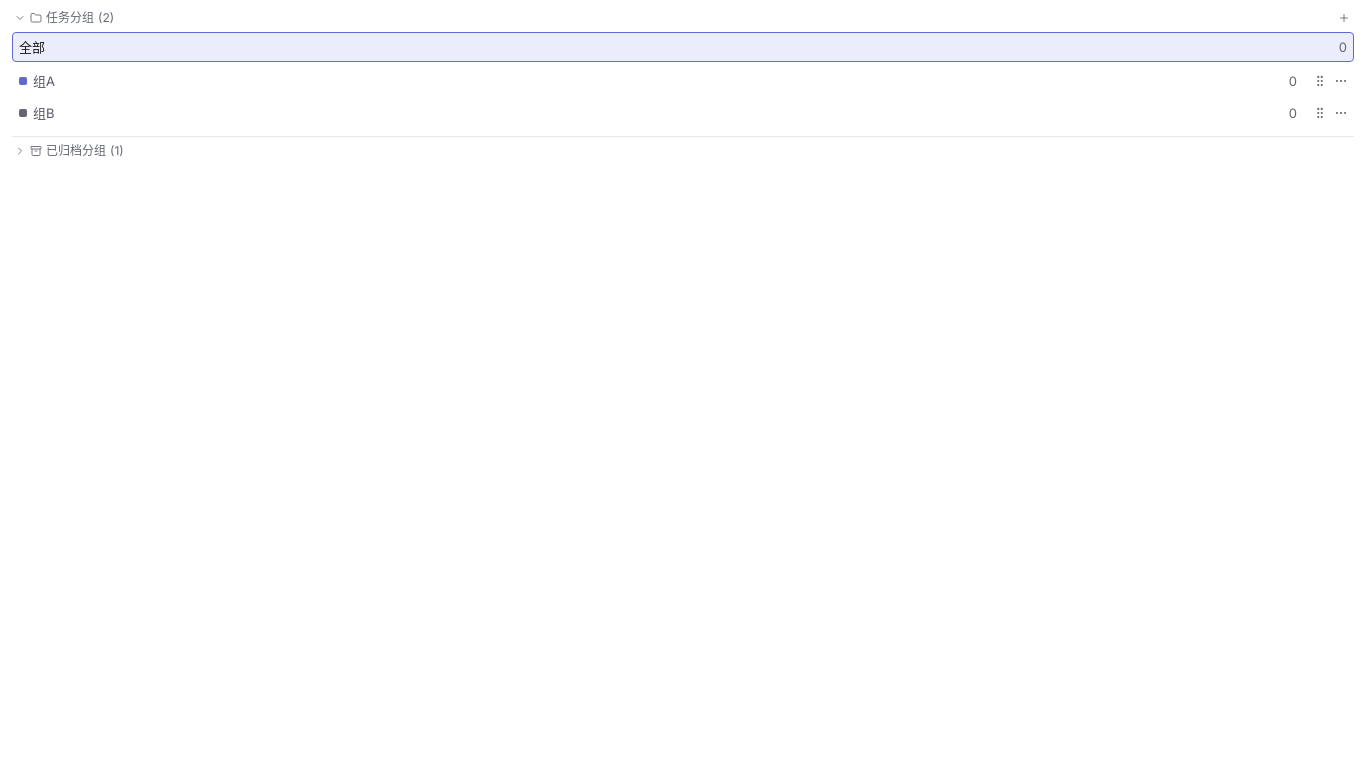
Test: GroupManageList › 菜单点外关闭：遮罩点击关闭菜单（UX 波 2 #4）；再点触发按钮本身仍切换
Check: the list item with aria-label "分组 组A" is shown, box [12,66,1354,96]
Click the heading named "分组菜单 组A" at (1341, 81), box [1334,74,1348,88]
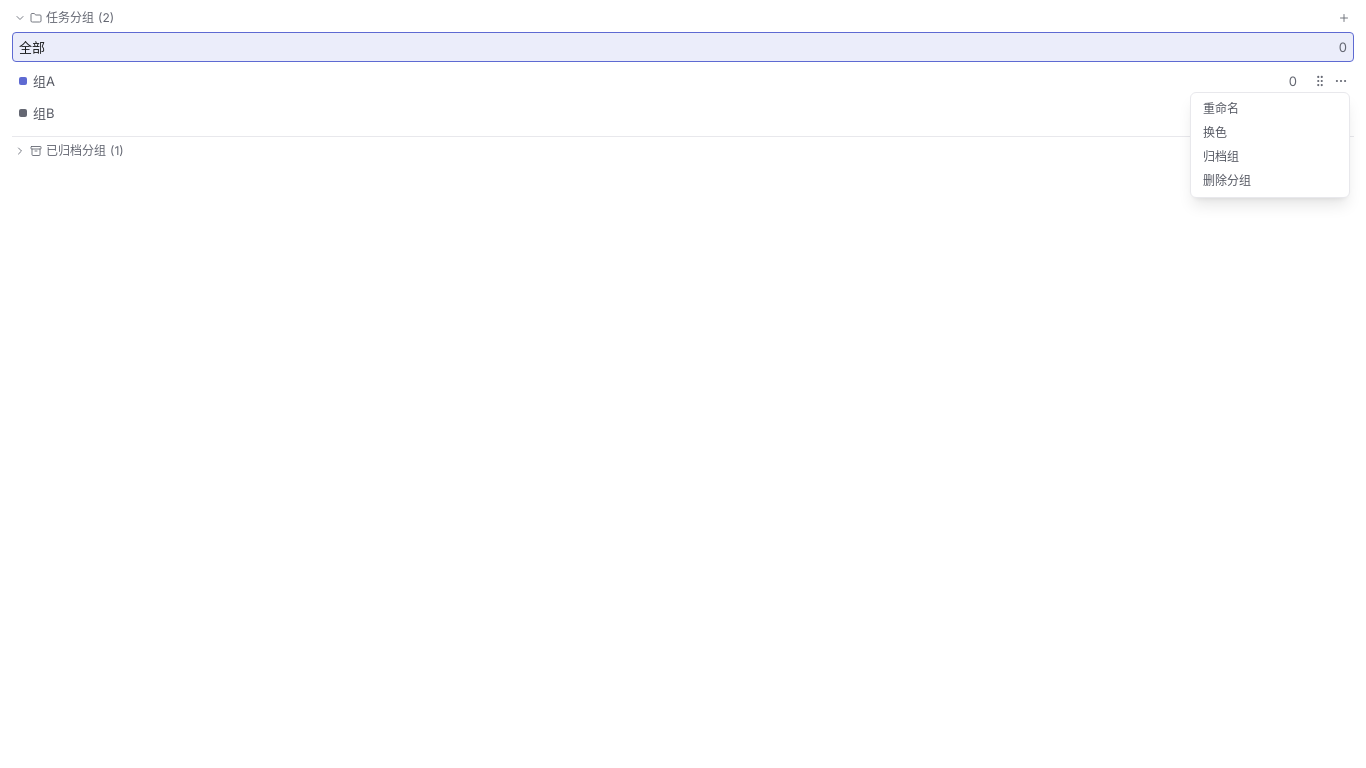
Check: the button "重命名" is shown, box [1191,97,1349,121]
Check: the element with test id "group-menu-overlay" is shown
Click the element with test id "group-menu-overlay" at (683, 384), box [0,0,1365,767]
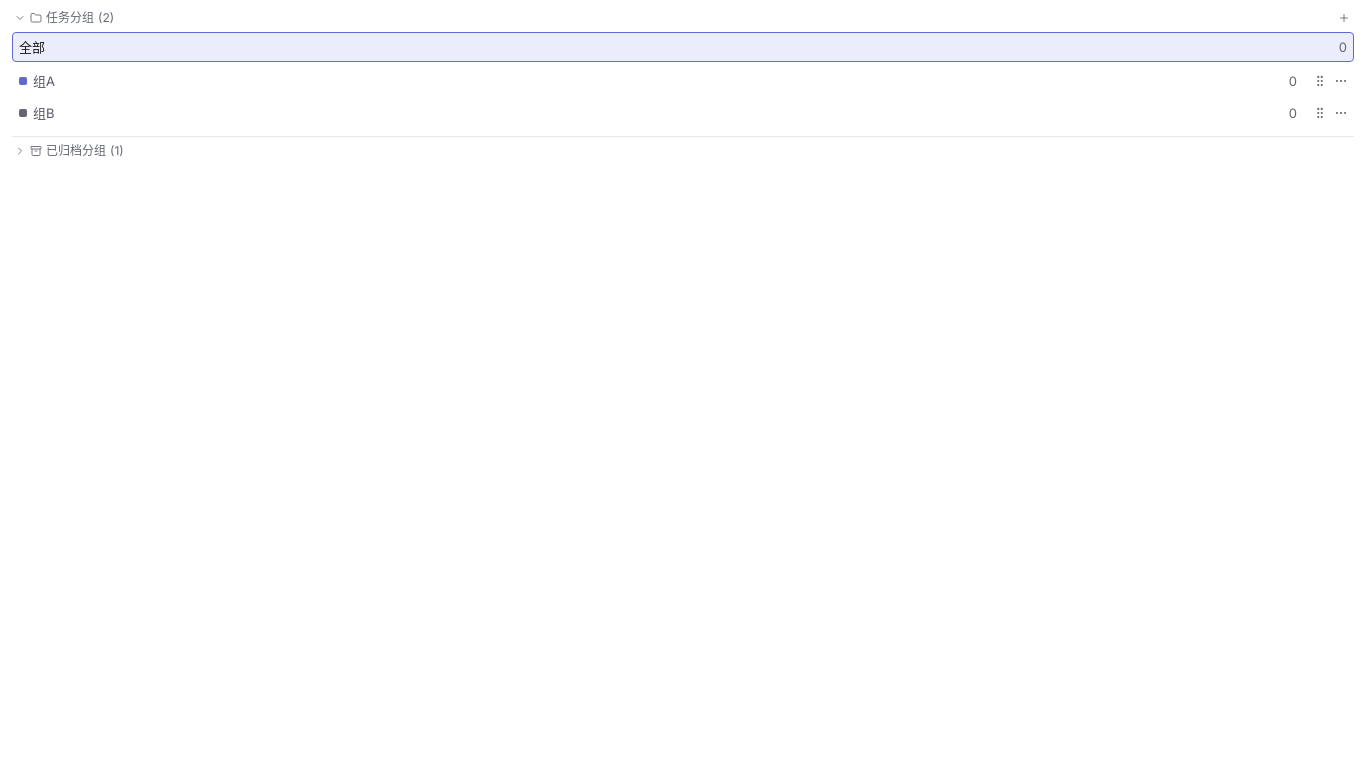
Check: the button "重命名" is gone
Check: the element with test id "group-menu-overlay" is gone
Click the heading named "分组菜单 组A" at (1341, 81), box [1334,74,1348,88]
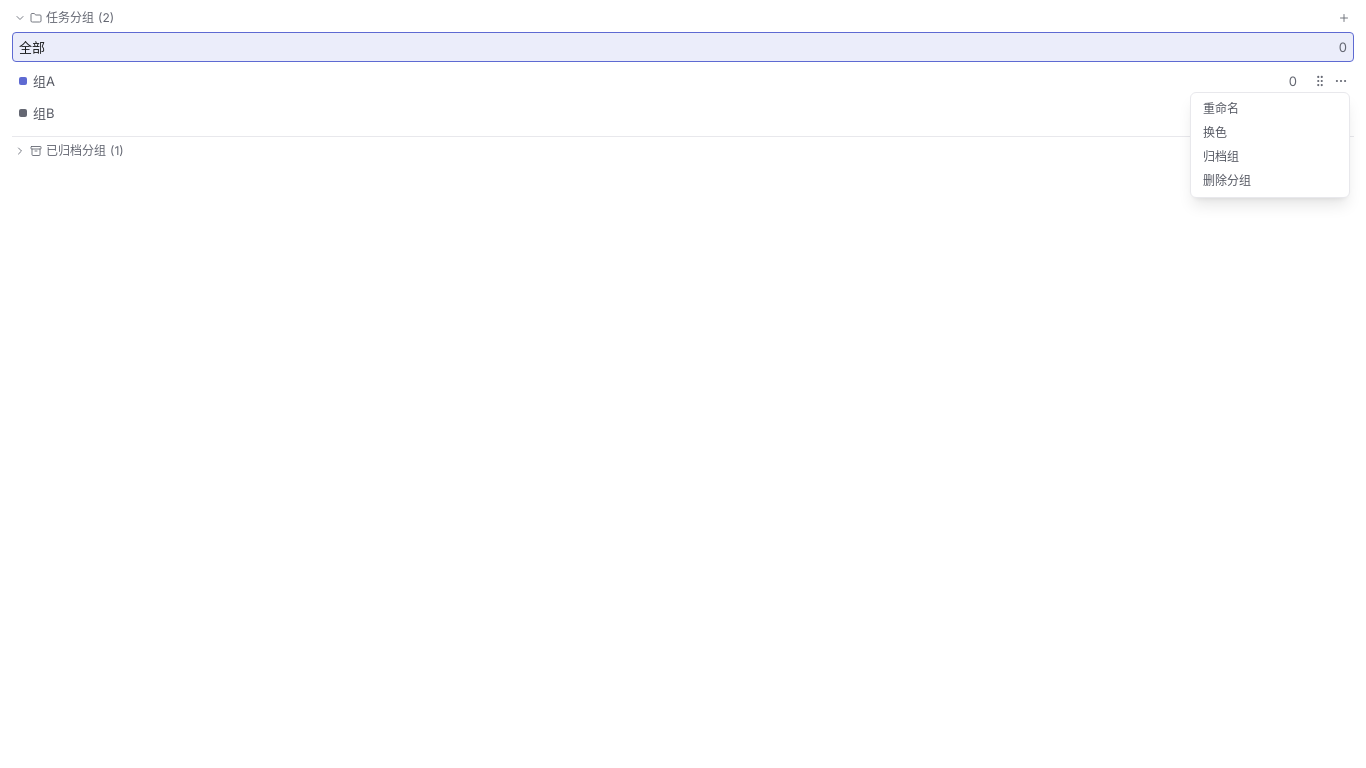
Check: the button "重命名" is shown, box [1191,97,1349,121]
Click the heading named "分组菜单 组A" at (1341, 81), box [1334,74,1348,88]
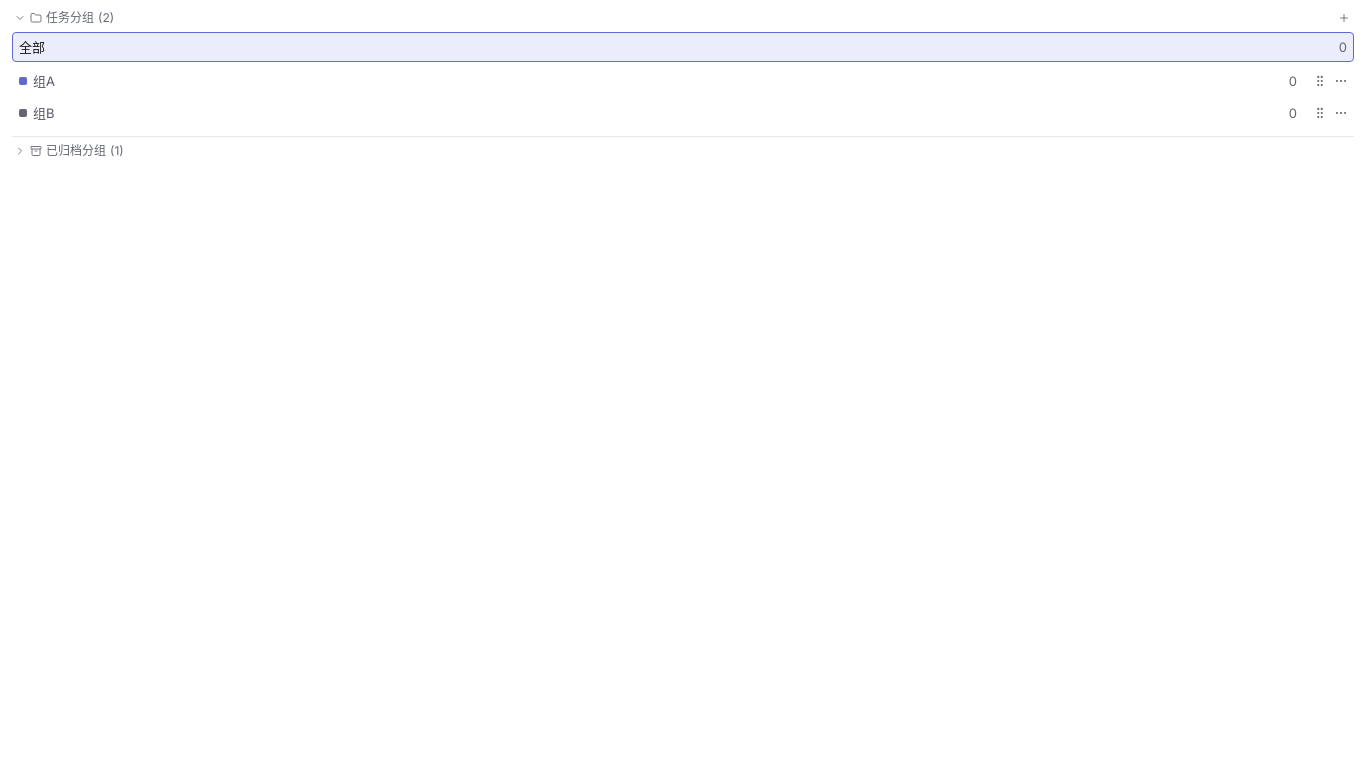
Check: the button "重命名" is gone
